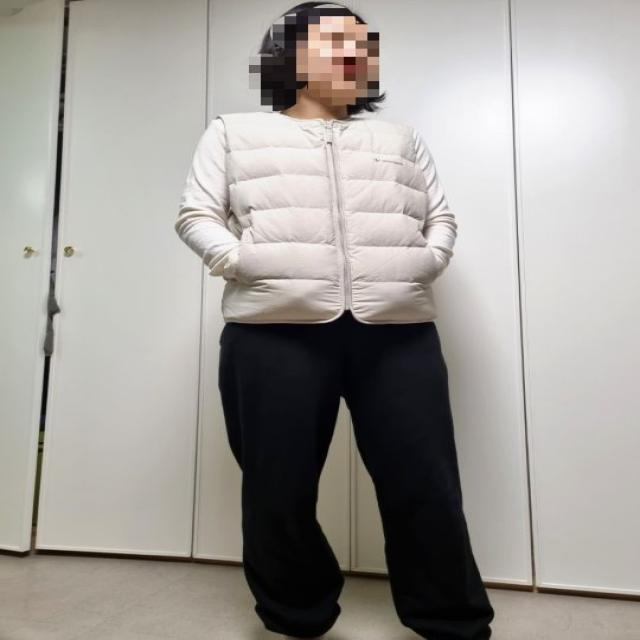padding: (212, 110, 436, 326)
trainingpants: (218, 314, 494, 640)
